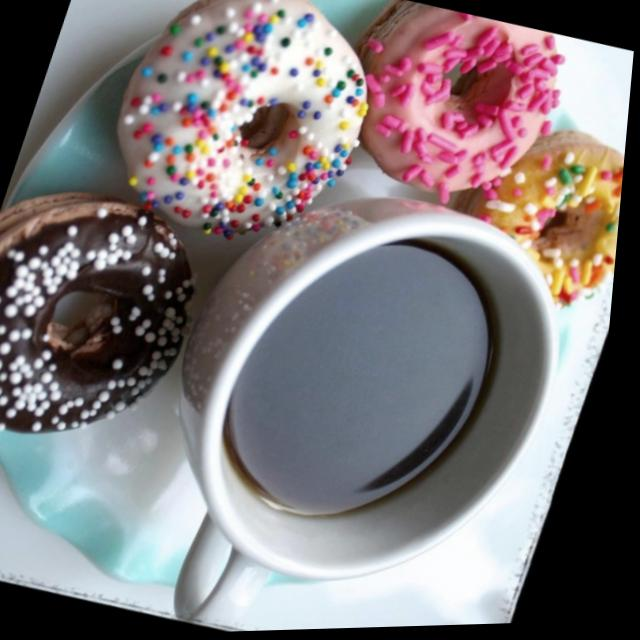donut: (76, 0, 402, 270), (0, 171, 233, 469), (320, 0, 584, 227), (460, 121, 630, 326)
kopi hitam: (119, 151, 610, 633)
